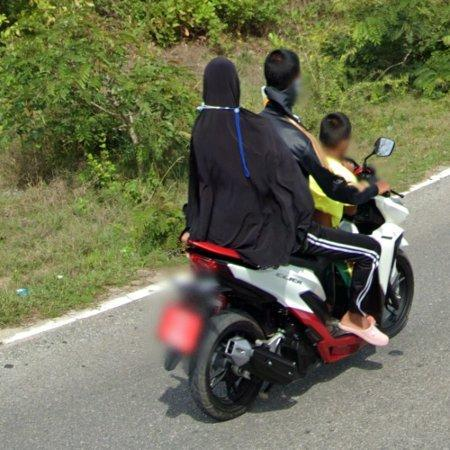motorcycles: (156, 242, 366, 422), (344, 192, 415, 338)
